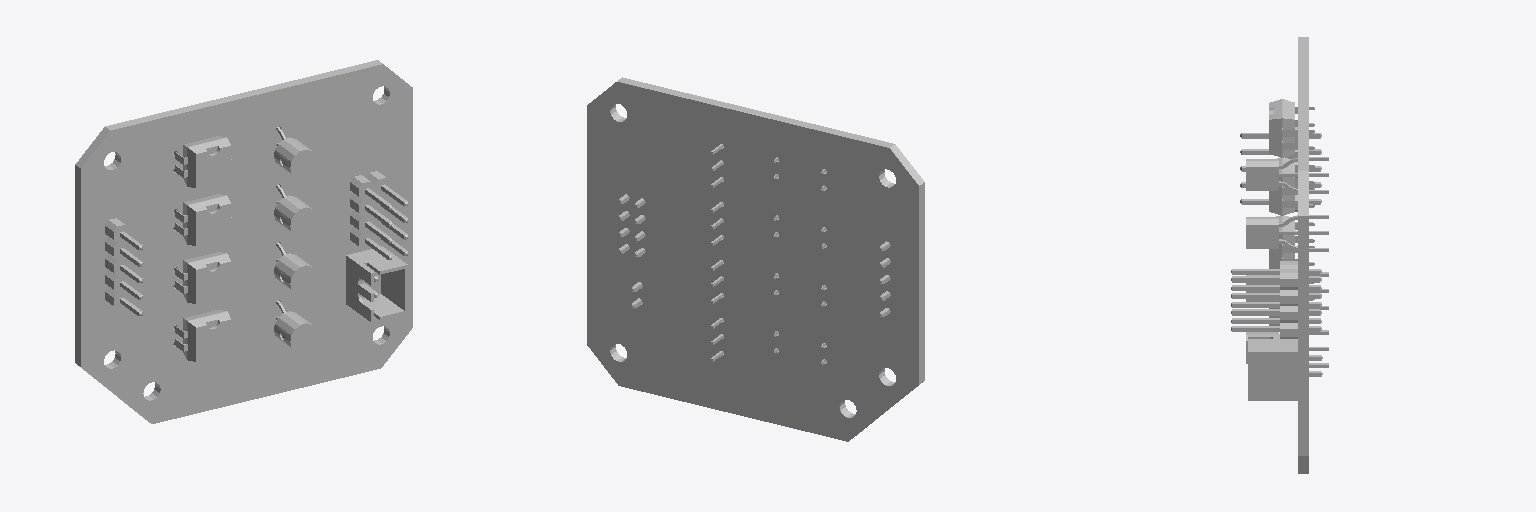
File: 4-Channel Opto-Isolator v1 v10.obj
3 renders of one model, left to right at view 1: azimuth 30°, elevation 25°; view 2: azimuth 150°, elevation 25°; view 3: azimuth 270°, elevation 25°, orthographic.
Visible parts, largest first — view 1: Solid1, Solid1:11, Solid1:5, Solid1:6, Solid1:4, Solid1:1, Solid1:2, Solid1:3, Solid1:8, Solid1:9, Solid1:7, Solid1:10; view 2: Solid1, Solid1:5; view 3: Solid1, Solid1:5, Solid1:11, Solid1:1, Solid1:2, Solid1:7, Solid1:8, Solid1:6, Solid1:3.
Part boxes in pixels (bbox=[...]): Solid1: bbox=[75, 60, 412, 423]; Solid1:11: bbox=[346, 246, 407, 321]; Solid1:5: bbox=[350, 171, 407, 259]; Solid1:6: bbox=[105, 218, 142, 315]; Solid1:4: bbox=[173, 310, 231, 361]; Solid1:1: bbox=[173, 136, 231, 187]; Solid1:2: bbox=[173, 194, 231, 245]; Solid1:3: bbox=[173, 252, 231, 303]; Solid1:8: bbox=[274, 195, 311, 237]; Solid1:9: bbox=[274, 253, 311, 295]; Solid1:7: bbox=[274, 137, 311, 179]; Solid1:10: bbox=[274, 311, 311, 353]; Solid1: bbox=[587, 77, 924, 441]; Solid1:5: bbox=[619, 194, 645, 257]; Solid1: bbox=[1298, 37, 1308, 473]; Solid1:5: bbox=[1231, 261, 1321, 338]; Solid1:11: bbox=[1248, 334, 1322, 400]; Solid1:1: bbox=[1269, 99, 1314, 157]; Solid1:2: bbox=[1269, 157, 1314, 215]; Solid1:7: bbox=[1246, 159, 1278, 190]; Solid1:8: bbox=[1246, 217, 1278, 248]; Solid1:6: bbox=[1240, 127, 1321, 211]; Solid1:3: bbox=[1269, 215, 1314, 268].
Bounding box in the file's own units: 53.32 × 46.66 × 13.62.